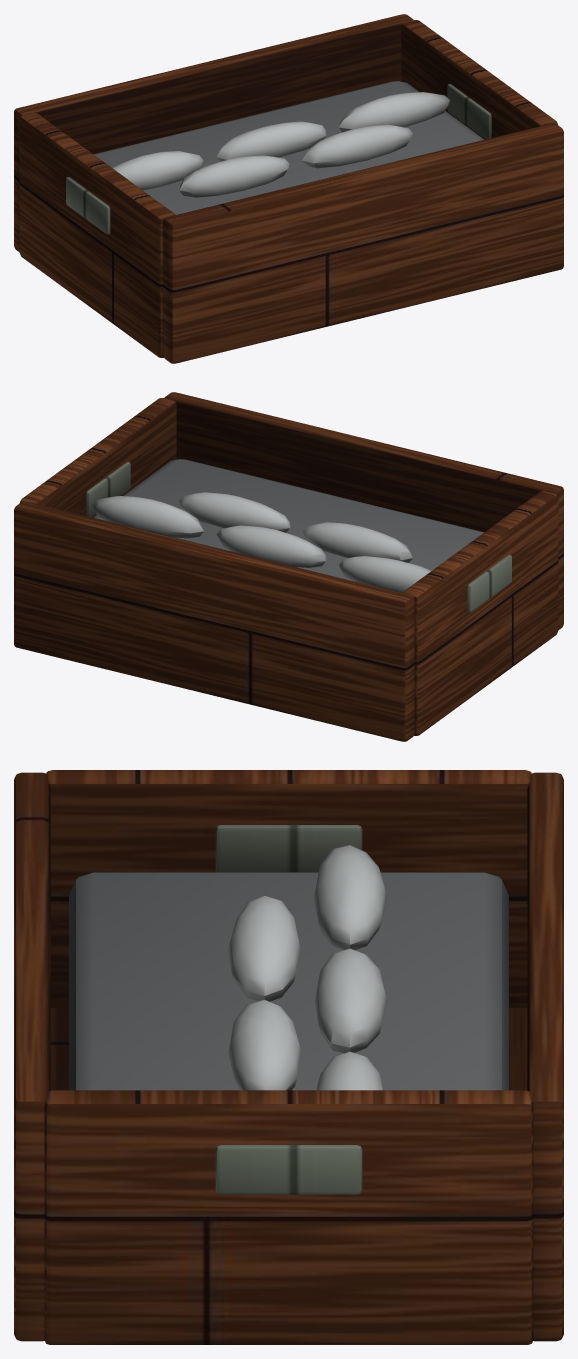
Rendered from fishbox.glb.
3 renders of one model, top to bottom at view 1: azimuth 30°, elevation 25°; view 2: azimuth 150°, elevation 25°; view 3: azimuth 270°, elevation 25°, orthographic. The views are drawn at different scales.
Visible parts, largest first — view 1: boat_house, boat_galv, boat_zinc, boat_bulk; view 2: boat_house, boat_galv, boat_zinc, boat_bulk; view 3: boat_house, boat_zinc, boat_galv, boat_bulk.
Boxes of the visible parts, left/top/right/bottom form: boat_house: left=14, top=14, right=563, bottom=363; boat_galv: left=112, top=92, right=449, bottom=197; boat_zinc: left=94, top=81, right=484, bottom=214; boat_bulk: left=66, top=84, right=491, bottom=234; boat_house: left=14, top=392, right=563, bottom=741; boat_galv: left=92, top=492, right=430, bottom=592; boat_zinc: left=93, top=459, right=483, bottom=581; boat_bulk: left=86, top=462, right=511, bottom=612; boat_house: left=14, top=770, right=563, bottom=1344; boat_zinc: left=69, top=872, right=508, bottom=1090; boat_galv: left=228, top=845, right=387, bottom=1090; boat_bulk: left=215, top=825, right=362, bottom=1194.
Size of the model in its own units: 0.66 by 0.227 by 0.45.
4 materials, 2 textured.
